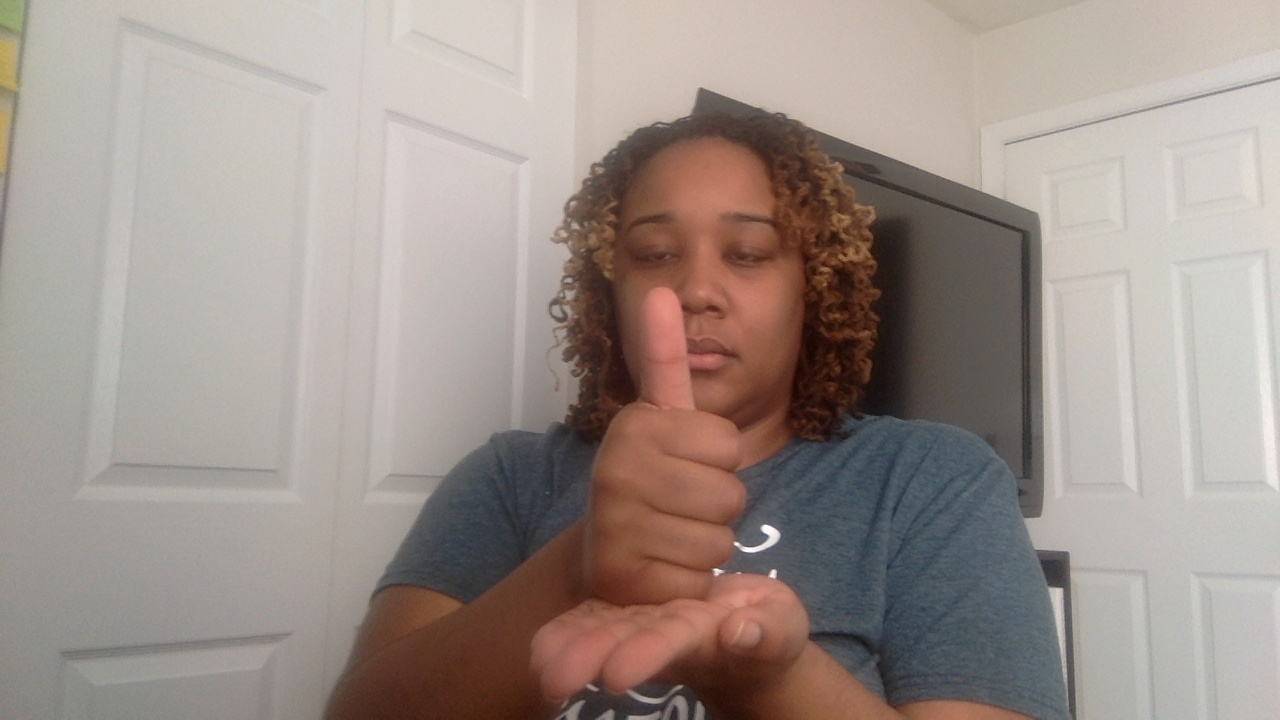help: (515, 287, 836, 720)
